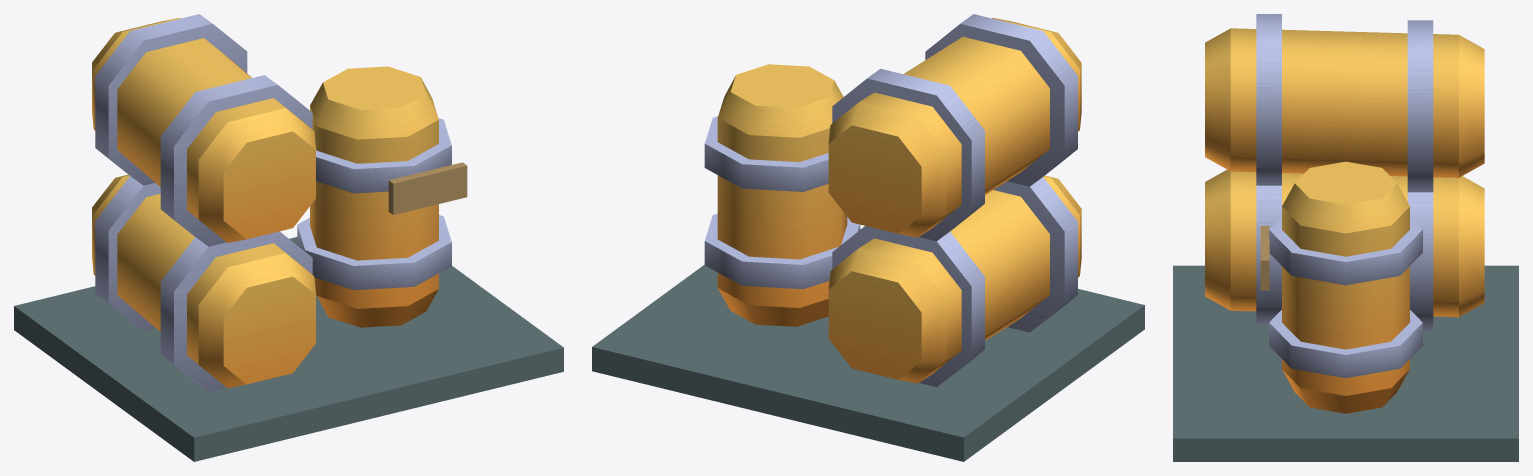
The model's file is supply_stack.glb.
3 views of the same model, side by side, from view 1: azimuth 30°, elevation 25°; view 2: azimuth 150°, elevation 25°; view 3: azimuth 270°, elevation 25° (orthographic). The views are drawn at different scales.
Parts seen in each view (by area): view 1: SkidBase, container_flat_3, container_flat_2, container_tall_5.001, container_tall_5, LoadID; view 2: SkidBase, container_flat_3, container_flat_2, container_tall_5.001, container_tall_5; view 3: SkidBase, container_flat_3, container_tall_5.001, container_flat_2, container_tall_5, LoadID.
Part boxes in pixels (x1=…): SkidBase: x1=14, y1=237, x2=563, y2=461; container_flat_3: x1=92, y1=14, x2=315, y2=246; container_flat_2: x1=92, y1=174, x2=315, y2=391; container_tall_5.001: x1=310, y1=66, x2=438, y2=327; container_tall_5: x1=297, y1=118, x2=451, y2=290; LoadID: x1=388, y1=162, x2=467, y2=214; SkidBase: x1=592, y1=265, x2=1144, y2=461; container_flat_3: x1=828, y1=14, x2=1081, y2=241; container_flat_2: x1=828, y1=175, x2=1081, y2=387; container_tall_5.001: x1=717, y1=64, x2=847, y2=326; container_tall_5: x1=704, y1=116, x2=860, y2=289; SkidBase: x1=1173, y1=265, x2=1518, y2=461; container_flat_3: x1=1205, y1=14, x2=1484, y2=192; container_tall_5.001: x1=1282, y1=161, x2=1409, y2=413; container_flat_2: x1=1205, y1=169, x2=1484, y2=331; container_tall_5: x1=1269, y1=217, x2=1422, y2=378; LoadID: x1=1260, y1=226, x2=1269, y2=290.
Size of the model in its own units: 1.6 by 1.3 by 1.35.
Materials: 3 (1 with a texture image).
